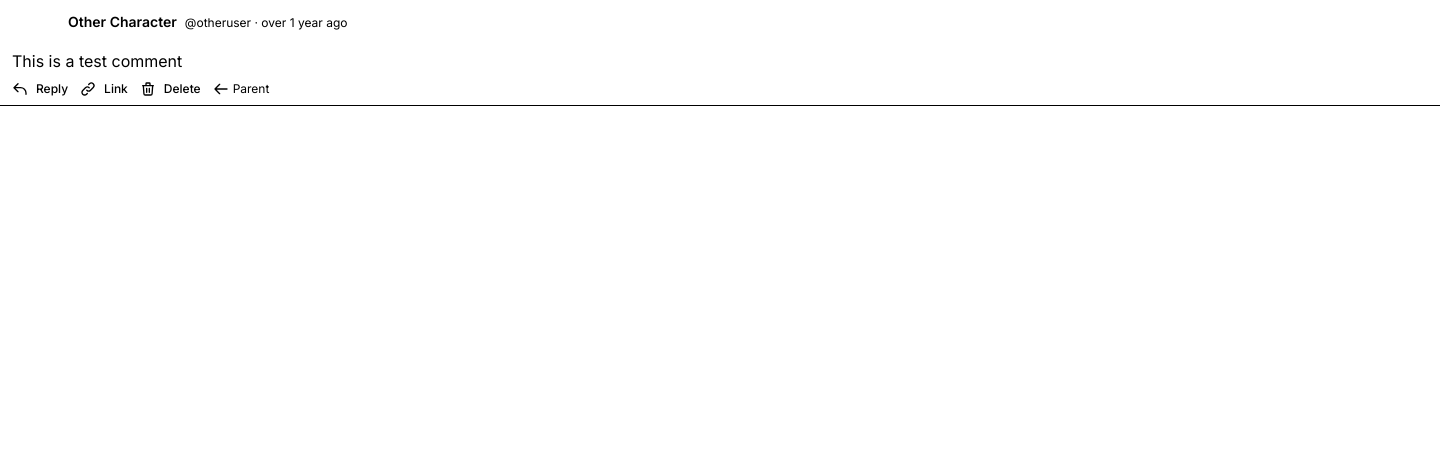
Scenario: ThreadedComment › Reply Form › auto-selects first character when parentComment character is not controllable
Click the button "Reply" at [40, 89], box [12,81,68,97]
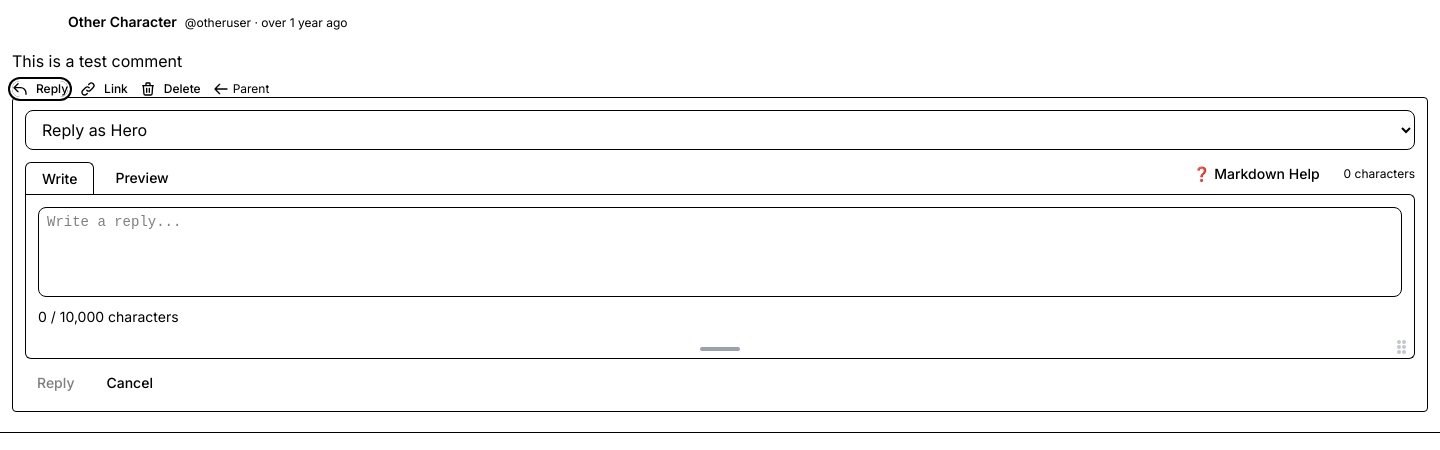
Now the dropdown shows "Reply as Hero", box [25,110,1415,150]
